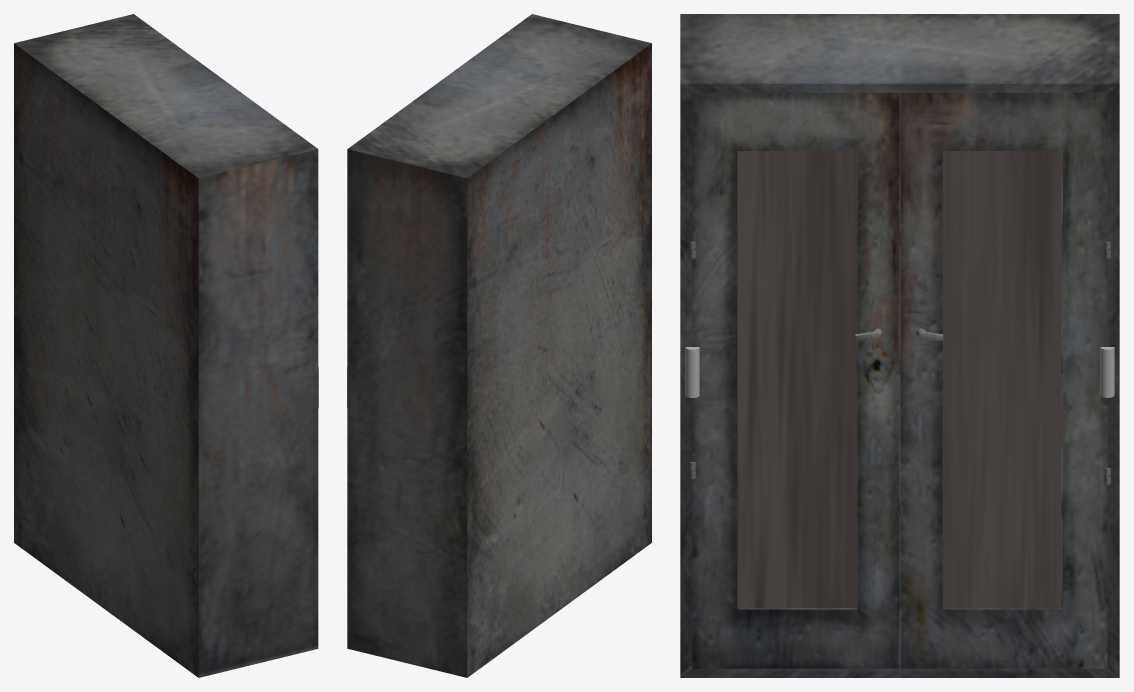
File: infirmary_medical_cabinet.dae
3 views of the same model, side by side, from view 1: azimuth 30°, elevation 25°; view 2: azimuth 150°, elevation 25°; view 3: azimuth 270°, elevation 25° (orthographic). The views are drawn at different scales.
Visible parts, largest first — view 1: MainBody; view 2: MainBody; view 3: LeftDoor, RightDoor, MainBody, RightWindow, LeftWindow, _joint_hinge_MainBody_LeftDoor_0_125_nocollide_joint1, _joint_hinge_MainBody_RightDoor_125_0_nocollide_joint2.
Boxes of the visible parts, x1=… form: MainBody: x1=14, y1=14, x2=318, y2=677; MainBody: x1=347, y1=14, x2=651, y2=677; LeftDoor: x1=689, y1=92, x2=899, y2=668; RightDoor: x1=900, y1=92, x2=1110, y2=668; MainBody: x1=680, y1=14, x2=1119, y2=677; RightWindow: x1=942, y1=151, x2=1061, y2=607; LeftWindow: x1=737, y1=151, x2=856, y2=607; _joint_hinge_MainBody_LeftDoor_0_125_nocollide_joint1: x1=685, y1=347, x2=699, y2=397; _joint_hinge_MainBody_RightDoor_125_0_nocollide_joint2: x1=1100, y1=347, x2=1114, y2=397.
Size of what is drawn, in the model's own units: 0.6622 by 2.44 by 1.63.
